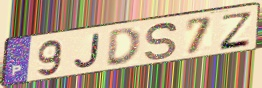7: (183, 14, 215, 57)
9: (36, 38, 64, 77)
D: (104, 26, 143, 67)
J: (72, 32, 101, 71)
S: (144, 21, 179, 61)
Z: (218, 11, 254, 52)
